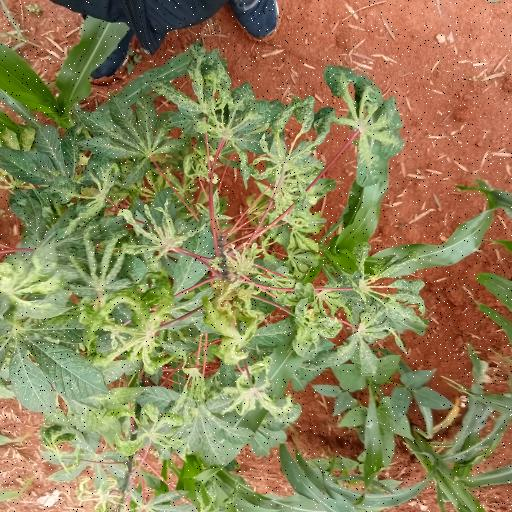Cassava_Mosaic: (323, 66, 409, 191), (173, 49, 271, 152), (79, 91, 190, 168), (119, 197, 198, 261), (65, 229, 135, 298), (114, 404, 186, 460)
